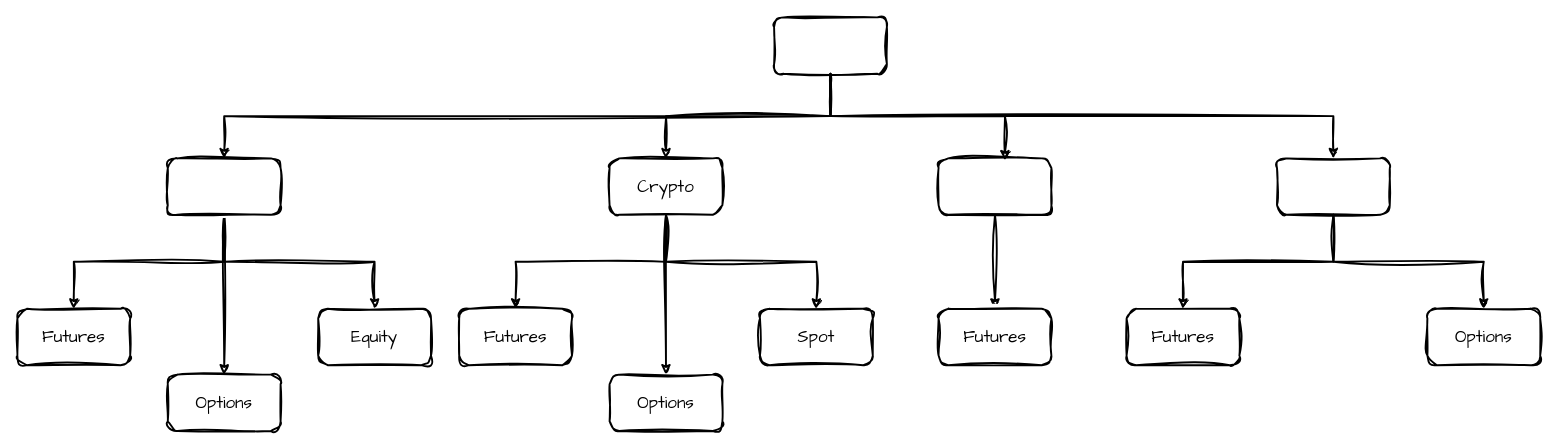
Image size: 1557x447. Some labels were removed from this diagram. Each missing label, with the box of its shape:
Commodity: (1276, 157, 1390, 215)
Forex: (937, 157, 1052, 215)
Markets: (773, 16, 887, 74)
Stocks: (166, 157, 281, 215)
